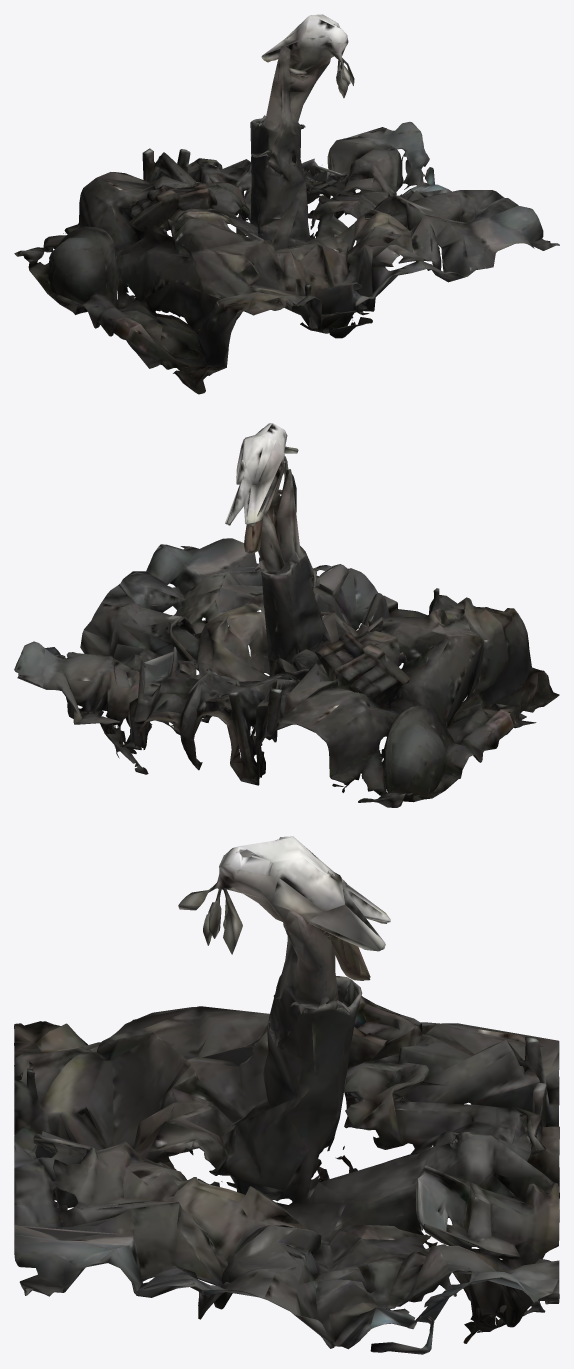
3 renders of one model, top to bottom at view 1: azimuth 30°, elevation 25°; view 2: azimuth 150°, elevation 25°; view 3: azimuth 270°, elevation 25°, orthographic. The views are drawn at different scales.
Visible parts, largest first — view 1: geometry_0; view 2: geometry_0; view 3: geometry_0.
Boxes of the visible parts, left/top/right/bottom form: geometry_0: left=14, top=14, right=559, bottom=394; geometry_0: left=14, top=423, right=559, bottom=807; geometry_0: left=14, top=836, right=559, bottom=1354.
Bounding box in the file's own units: 1 × 0.7049 × 0.7834.
1 material, 1 textured.
